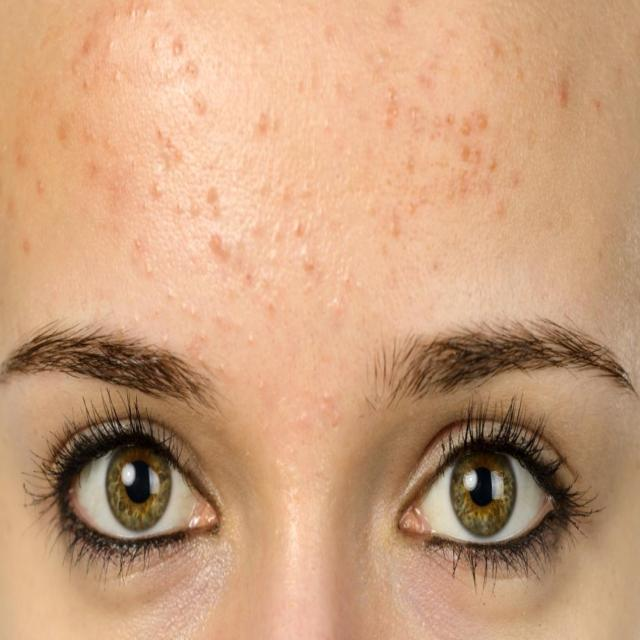fungal: (9, 2, 325, 310), (350, 6, 588, 291)
